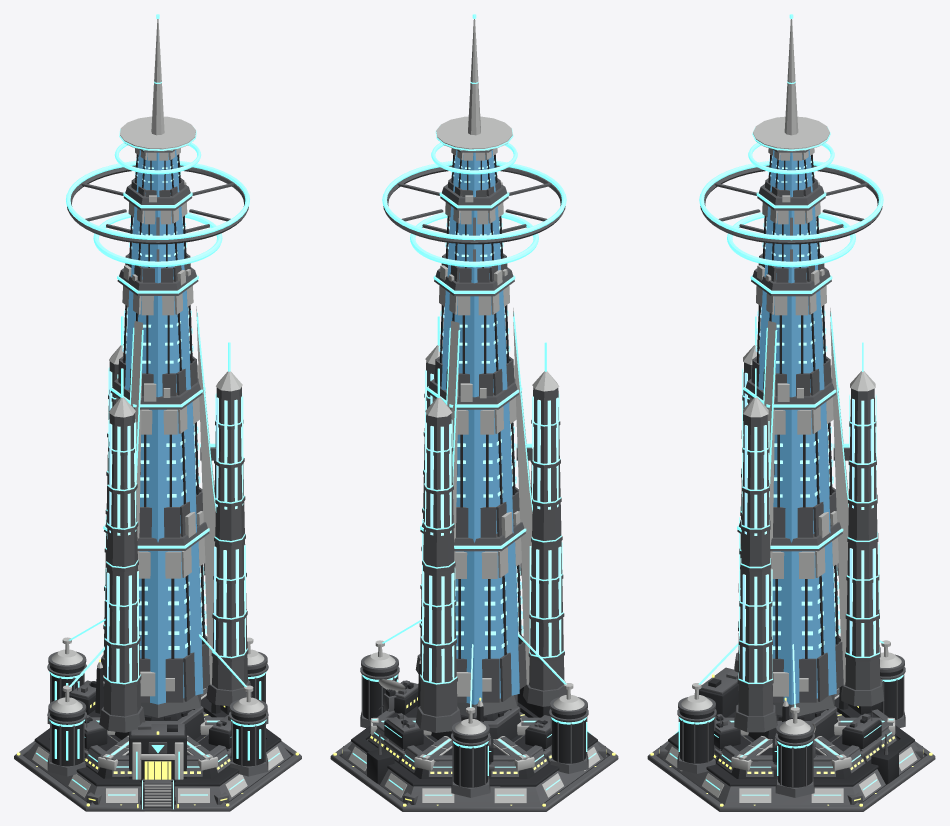
Rendered from sb_command_t3.glb.
3 views of the same model, side by side, from view 1: azimuth 30°, elevation 25°; view 2: azimuth 150°, elevation 25°; view 3: azimuth 270°, elevation 25° (orthographic).
Visible parts, largest first — view 1: SM_CC_BODY, SM_CC2_TOWER, SM_CC3_SAT_BODY, SM_CC3_DARK, SM_CC3_SAT_WIN, SM_CC2_TOWER_PLATES, SM_CC2_TOWER_PLATES_HI, SM_CC2_BLADES, SM_CC2_TOWER_MULLIONS, SM_CC2_TOWER_COLLARS, SM_CC3_GLOW, SM_CC2_CROWN (+8 smaller); view 2: SM_CC_BODY, SM_CC2_TOWER, SM_CC3_SAT_BODY, SM_CC3_DARK, SM_CC3_SAT_WIN, SM_CC2_TOWER_PLATES, SM_CC2_TOWER_PLATES_HI, SM_CC2_BLADES, SM_CC2_TOWER_MULLIONS, SM_CC2_TOWER_COLLARS, SM_CC3_GLOW, SM_CC2_CROWN (+8 smaller); view 3: SM_CC_BODY, SM_CC2_TOWER, SM_CC3_SAT_BODY, SM_CC3_DARK, SM_CC3_SAT_WIN, SM_CC2_TOWER_PLATES, SM_CC2_TOWER_PLATES_HI, SM_CC2_BLADES, SM_CC2_TOWER_COLLARS, SM_CC2_TOWER_MULLIONS, SM_CC3_GLOW, SM_CC2_CROWN (+8 smaller).
Part boxes in pixels (left/top/right/bottom): SM_CC_BODY: left=14, top=649, right=301, bottom=811; SM_CC2_TOWER: left=125, top=150, right=203, bottom=704; SM_CC3_SAT_BODY: left=103, top=361, right=247, bottom=716; SM_CC3_DARK: left=67, top=165, right=252, bottom=732; SM_CC3_SAT_WIN: left=105, top=367, right=245, bottom=682; SM_CC2_TOWER_PLATES: left=118, top=178, right=210, bottom=702; SM_CC2_TOWER_PLATES_HI: left=116, top=148, right=205, bottom=578; SM_CC2_BLADES: left=131, top=306, right=215, bottom=684; SM_CC2_TOWER_MULLIONS: left=123, top=154, right=205, bottom=658; SM_CC2_TOWER_COLLARS: left=104, top=149, right=209, bottom=550; SM_CC3_GLOW: left=66, top=161, right=249, bottom=684; SM_CC2_CROWN: left=120, top=19, right=195, bottom=151; SM_CC_BODY: left=330, top=652, right=618, bottom=811; SM_CC2_TOWER: left=441, top=150, right=519, bottom=704; SM_CC3_SAT_BODY: left=420, top=361, right=564, bottom=716; SM_CC3_DARK: left=383, top=165, right=566, bottom=732; SM_CC3_SAT_WIN: left=422, top=370, right=562, bottom=682; SM_CC2_TOWER_PLATES: left=434, top=178, right=526, bottom=702; SM_CC2_TOWER_PLATES_HI: left=432, top=148, right=521, bottom=578; SM_CC2_BLADES: left=447, top=308, right=532, bottom=684; SM_CC2_TOWER_MULLIONS: left=440, top=154, right=521, bottom=658; SM_CC2_TOWER_COLLARS: left=420, top=149, right=525, bottom=551; SM_CC3_GLOW: left=382, top=161, right=566, bottom=684; SM_CC2_CROWN: left=436, top=19, right=512, bottom=151; SM_CC_BODY: left=647, top=652, right=935, bottom=811; SM_CC2_TOWER: left=758, top=150, right=836, bottom=704; SM_CC3_SAT_BODY: left=738, top=362, right=880, bottom=716; SM_CC3_DARK: left=700, top=165, right=884, bottom=732; SM_CC3_SAT_WIN: left=739, top=368, right=879, bottom=682; SM_CC2_TOWER_PLATES: left=737, top=178, right=843, bottom=702; SM_CC2_TOWER_PLATES_HI: left=749, top=148, right=838, bottom=578; SM_CC2_BLADES: left=764, top=308, right=848, bottom=684; SM_CC2_TOWER_COLLARS: left=737, top=149, right=842, bottom=551; SM_CC2_TOWER_MULLIONS: left=757, top=154, right=838, bottom=658; SM_CC3_GLOW: left=699, top=161, right=883, bottom=683; SM_CC2_CROWN: left=753, top=19, right=829, bottom=151.
Bounding box in the file's own units: 49.05 × 156 × 54.5.
